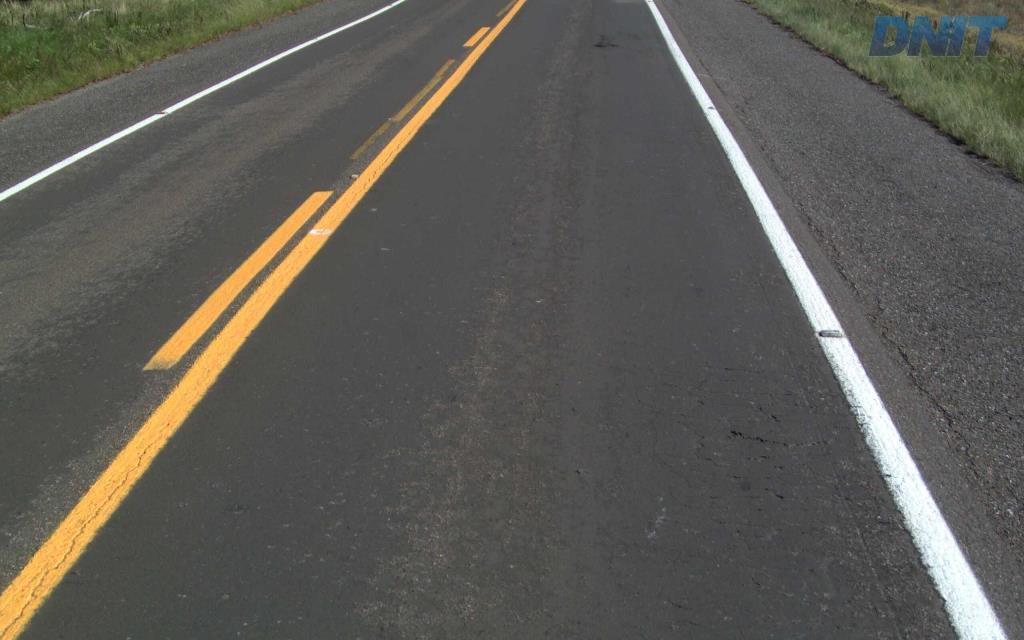crack: (861, 556, 916, 581)
